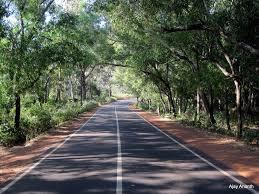road: (0, 98, 258, 192)
